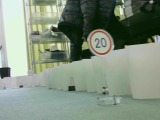speed_20: (84, 27, 115, 57)
